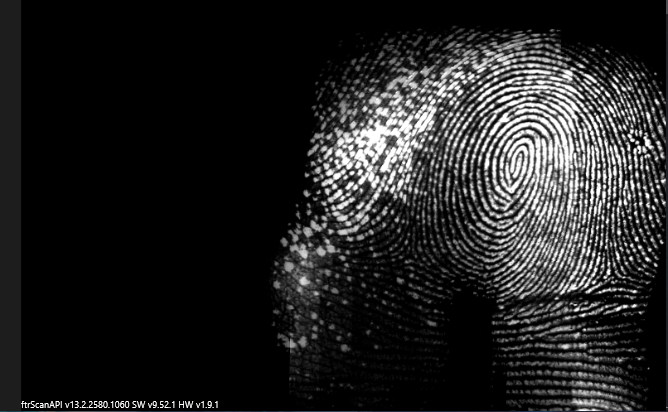deltas: (588, 245, 638, 293), (382, 228, 427, 276)
nucleo: (502, 144, 534, 187)
